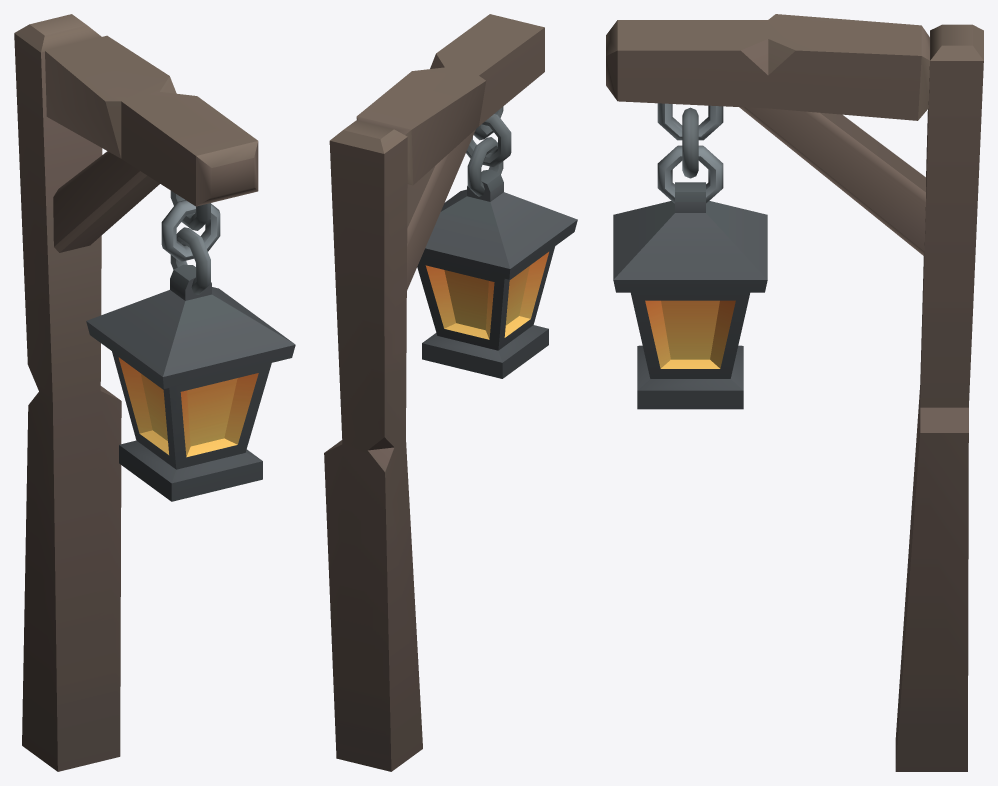
The model's file is d_kaykit_poteau_lanterne.glb.
3 renders of one model, left to right at view 1: azimuth 30°, elevation 25°; view 2: azimuth 150°, elevation 25°; view 3: azimuth 270°, elevation 25°, orthographic. The views are drawn at different scales.
Visible parts, largest first — view 1: d_kaykit_poteau_lanterne; view 2: d_kaykit_poteau_lanterne; view 3: d_kaykit_poteau_lanterne.
Boxes of the visible parts, x1,y1,x2,y2 form: d_kaykit_poteau_lanterne: (14, 14, 295, 771); d_kaykit_poteau_lanterne: (324, 14, 577, 771); d_kaykit_poteau_lanterne: (606, 14, 983, 771).
Size of the model in its own units: 0.6401 by 3.3 by 1.57.
Materials: 1 (1 with a texture image).
